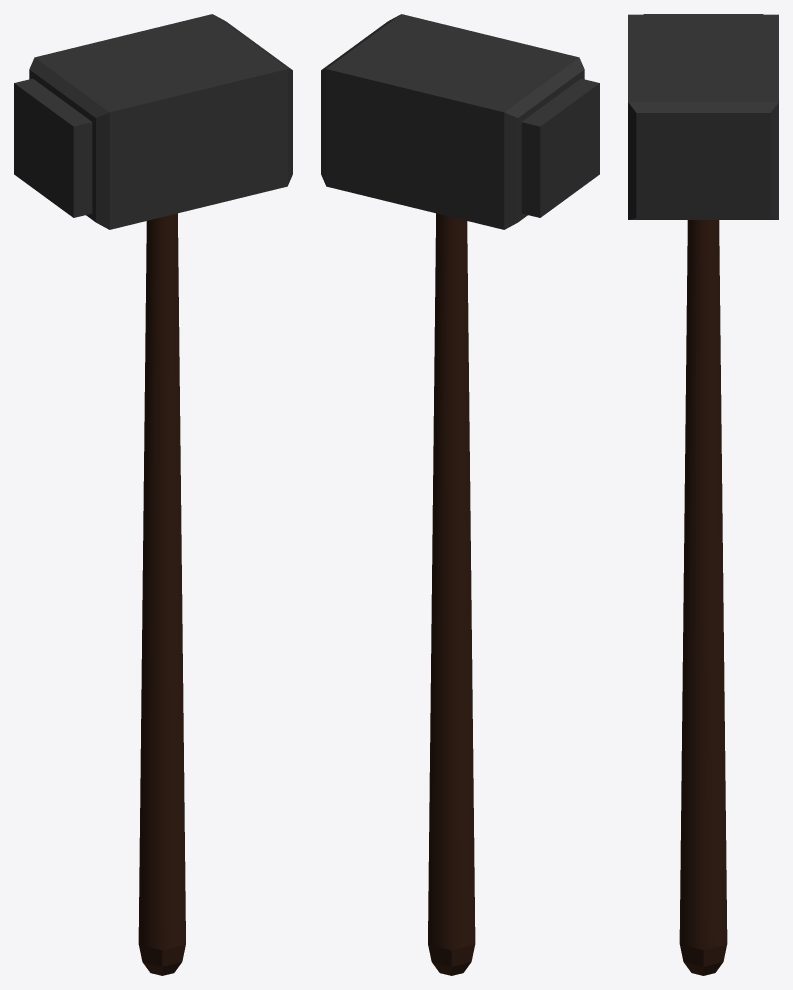
File: SM_hammer_blacksmith_02.fbx
3 renders of one model, left to right at view 1: azimuth 30°, elevation 25°; view 2: azimuth 150°, elevation 25°; view 3: azimuth 270°, elevation 25°, orthographic.
Parts seen in each view (by area): view 1: Object527; view 2: Object527; view 3: Object527.
Part boxes in pixels (bbox=[...]): Object527: bbox=[14, 14, 292, 975]; Object527: bbox=[321, 14, 599, 975]; Object527: bbox=[628, 14, 778, 975].
Bounding box in the file's own units: 12 × 48.27 × 7.25.
